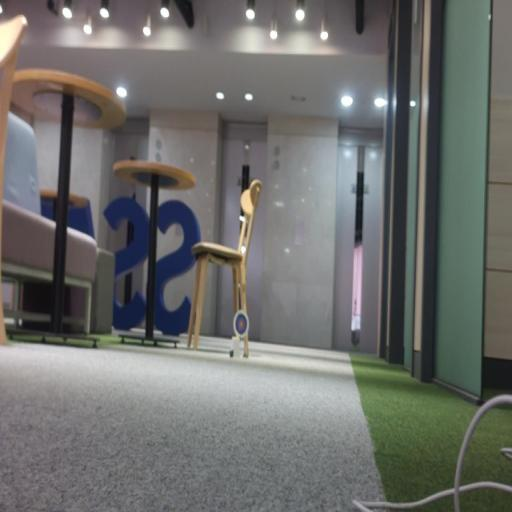target: (233, 309, 249, 340)
